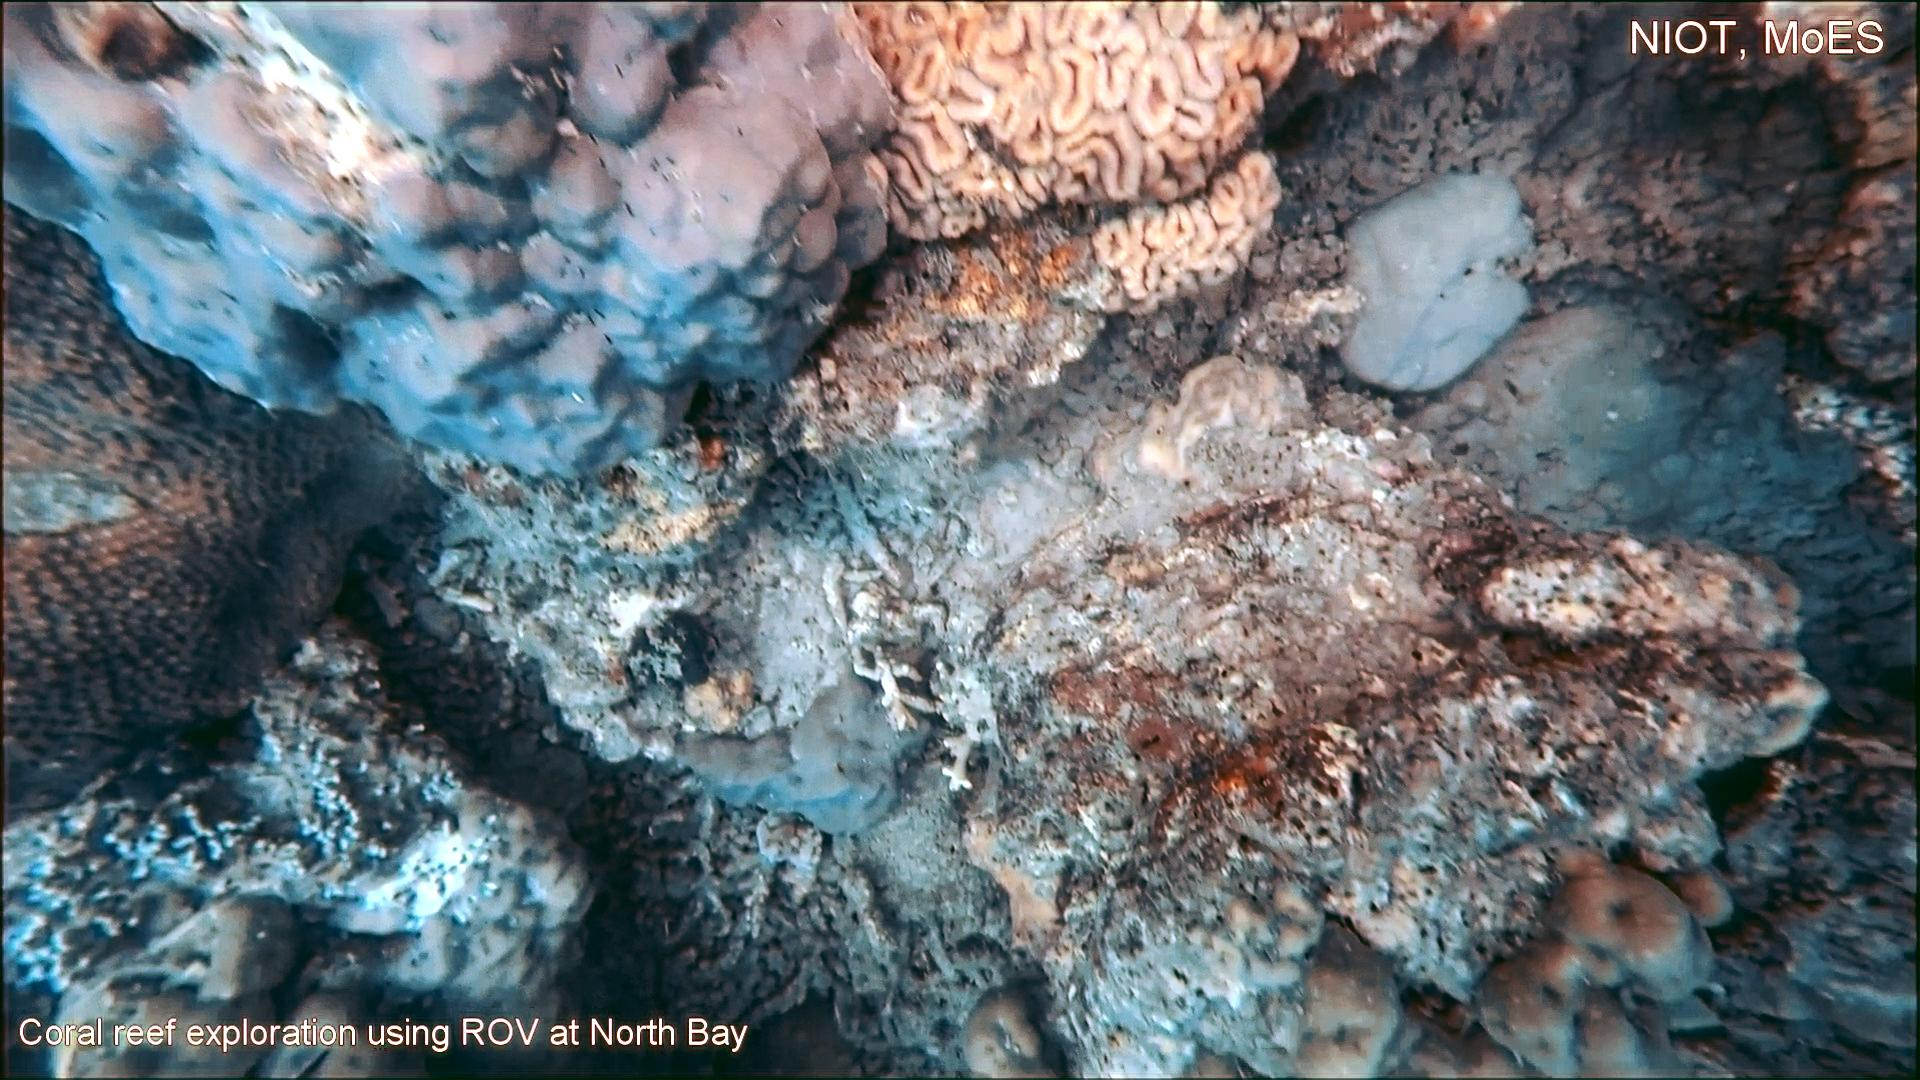Lobophyllia: (840, 0, 1307, 326)
